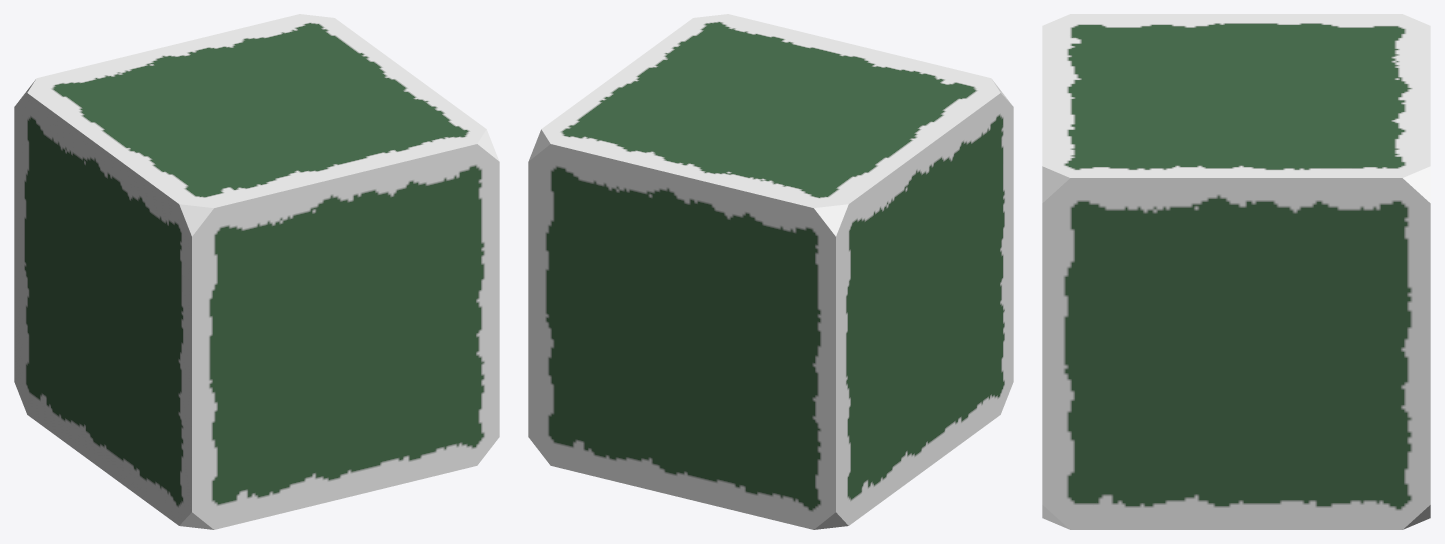
Rendered from zhengfangxing.FBX.
3 renders of one model, left to right at view 1: azimuth 30°, elevation 25°; view 2: azimuth 150°, elevation 25°; view 3: azimuth 270°, elevation 25°, orthographic. The views are drawn at different scales.
Visible parts, largest first — view 1: Box001; view 2: Box001; view 3: Box001.
Boxes of the visible parts, <box> form: Box001: <box>14,14,499,529</box>; Box001: <box>528,14,1013,529</box>; Box001: <box>1042,14,1430,529</box>.
Size of the model in its own units: 10 by 10 by 10.
